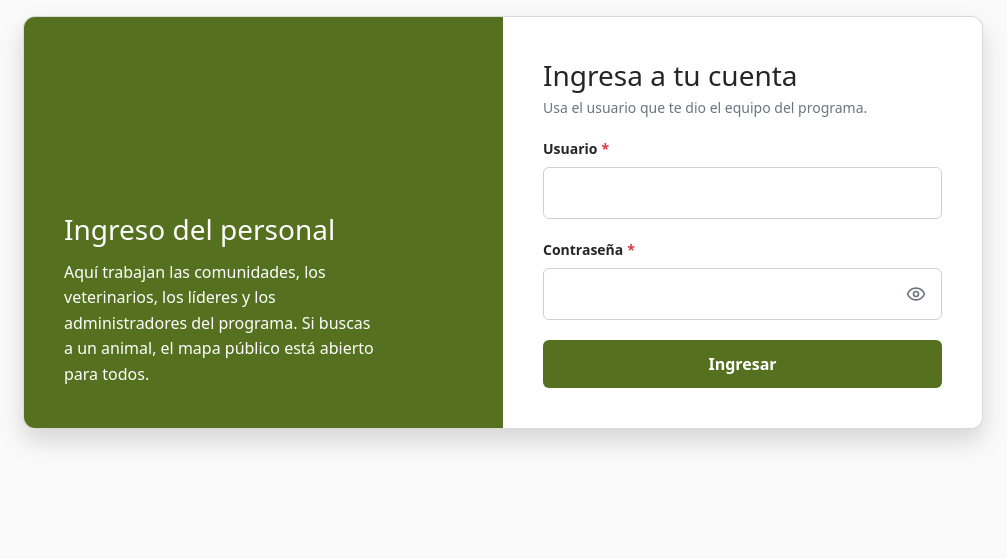
PaginaIngreso › distingue un fallo de conexión de unas credenciales incorrectas
Type "dr.rojas" into the field labelled "Usuario*".
click(742, 193); type("dr.rojas")  # box [543, 167, 942, 219]
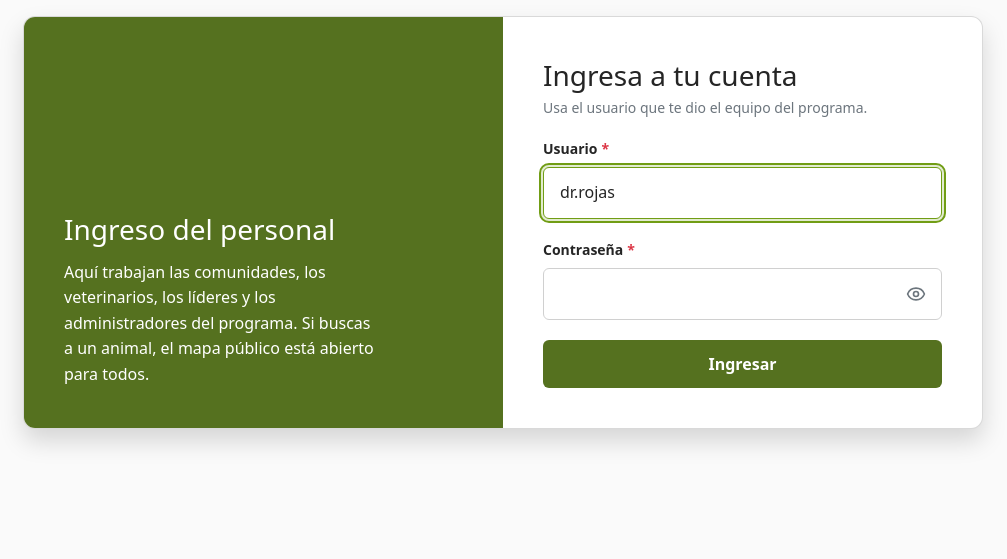
Type "secreto" into the password field labelled "Contraseña*".
click(742, 294); type("secreto")  # box [543, 268, 942, 320]
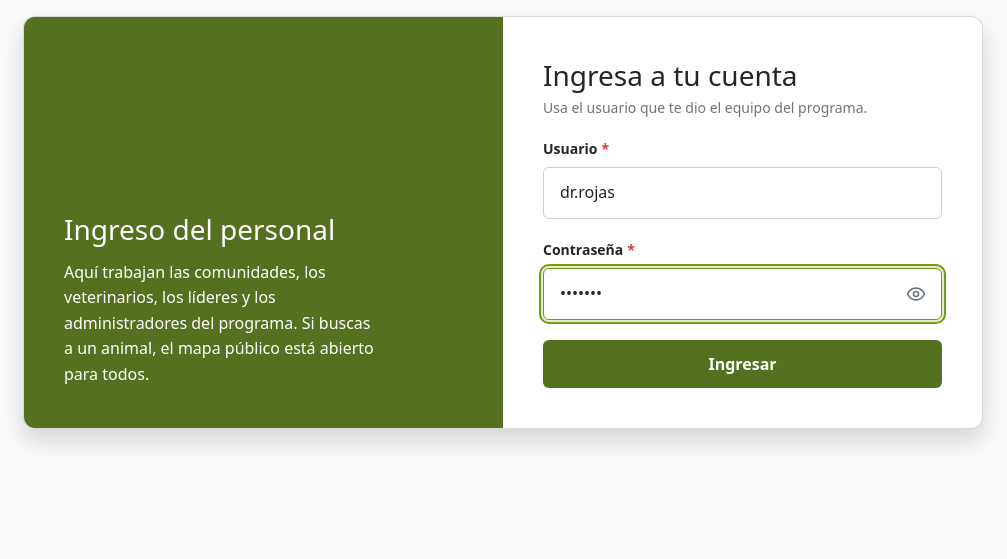
Click the button "Ingresar".
click(742, 364)  # box [543, 340, 942, 388]
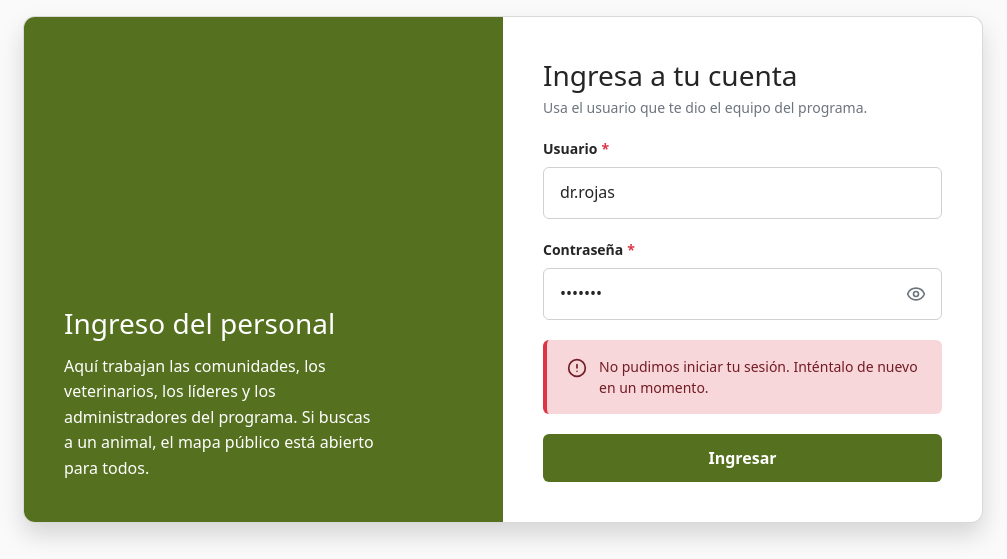
expect the text "No pudimos iniciar tu sesión" is shown: met, box [599, 357, 918, 397]
